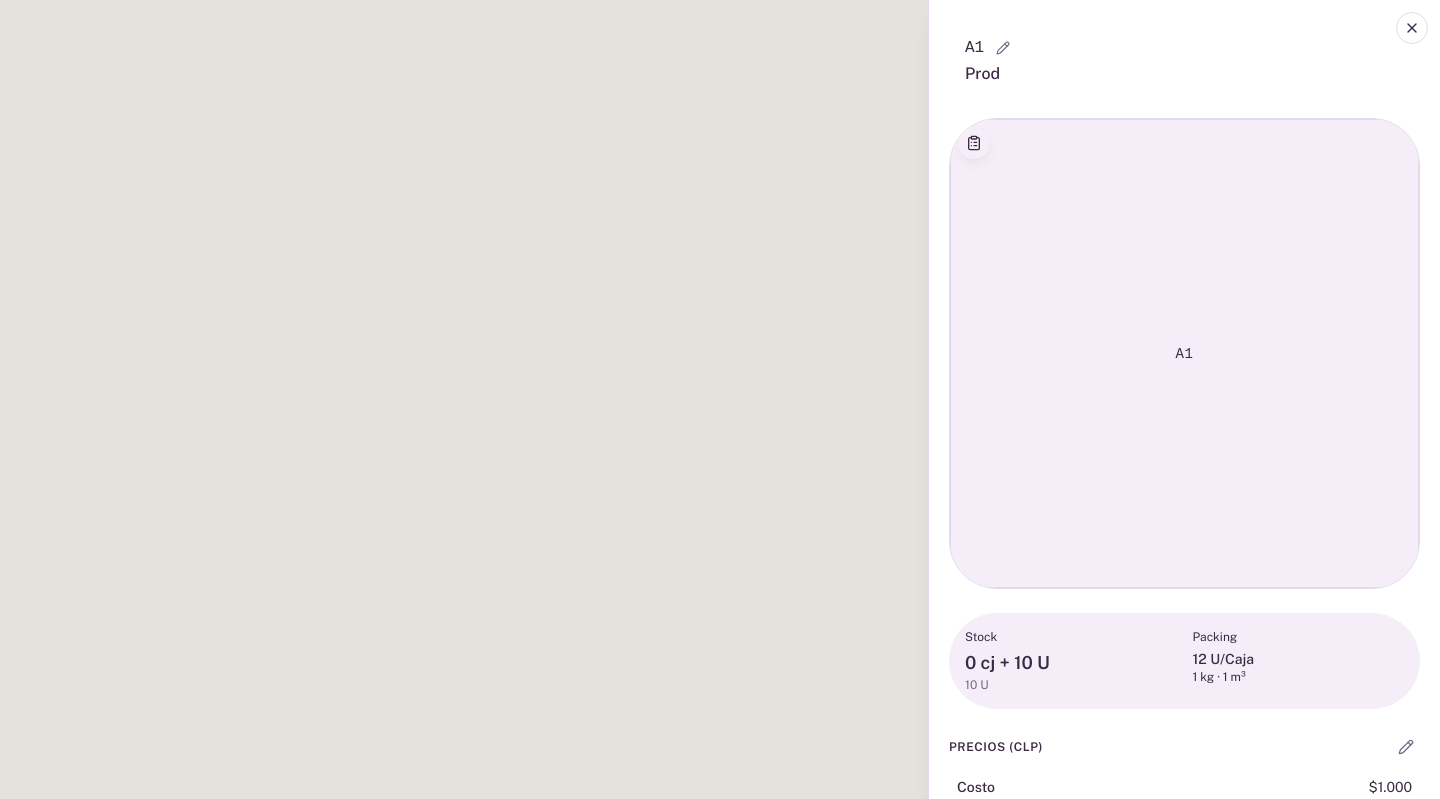
ProductCard / ProductDrawer — textos › ProductDrawer usa "por menor"/"por mayor" en labels y ganancias
This screenshot has width=1440, height=799.
Click the button titled "Editar producto".
click(1406, 747)  # box [1392,733,1420,761]
(page scrolled)
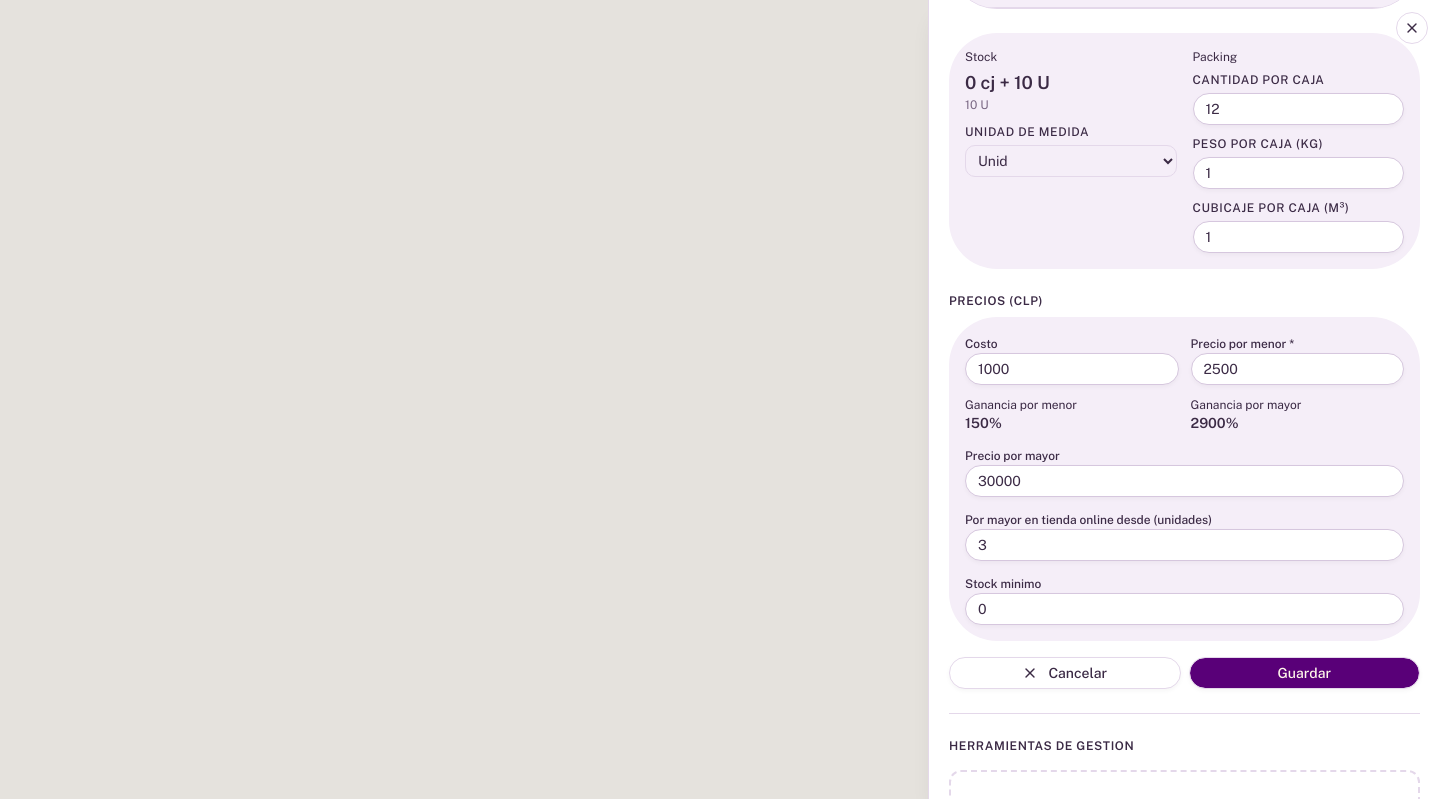
Result: the text "Precio por menor *" is shown at [1190,337,1294,351]
Result: the text "Ganancia por menor" is shown at [965,398,1077,412]
